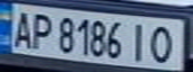1: (72, 16, 93, 56)
6: (106, 18, 127, 61)
8: (87, 17, 109, 59), (54, 14, 75, 54)
A: (6, 7, 36, 48)
I: (127, 20, 154, 63)
O: (145, 21, 181, 64)
P: (27, 9, 57, 51)
